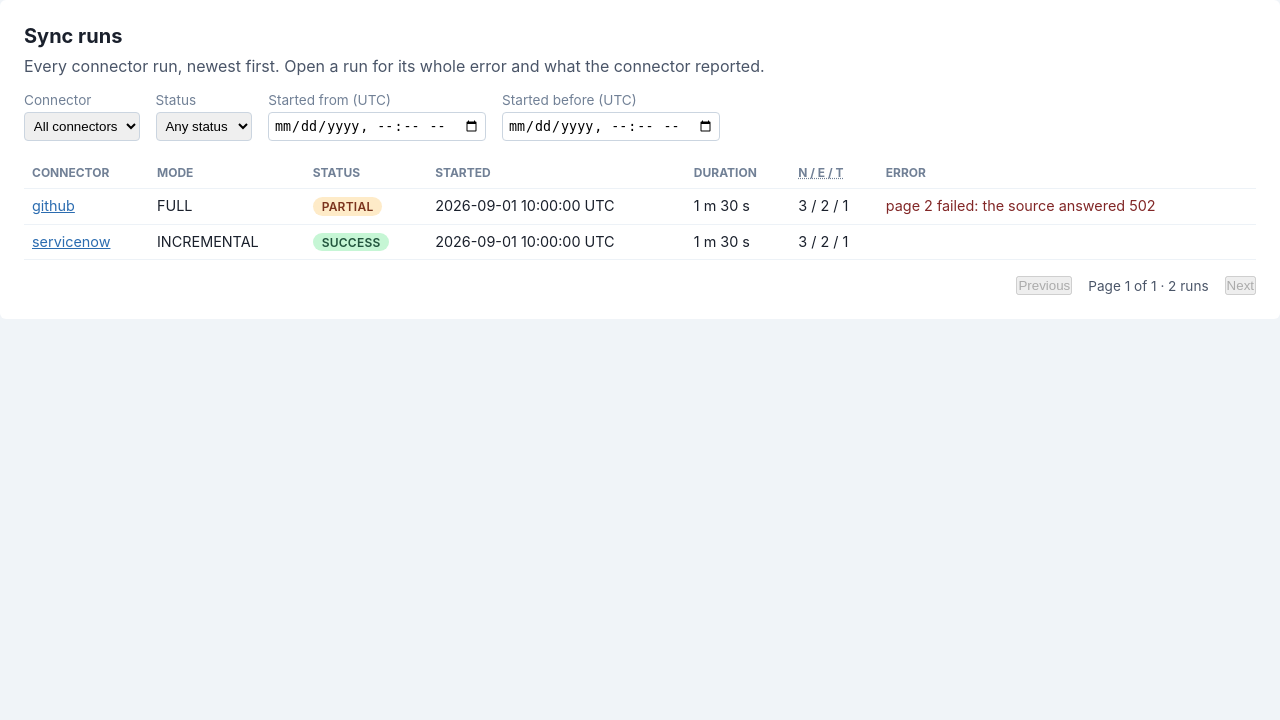
Scenario: SyncRunsView › tells the drawer when the instance is read-only
Click the row with test id "run-run-2" at (640, 206), box [24, 188, 1256, 224]
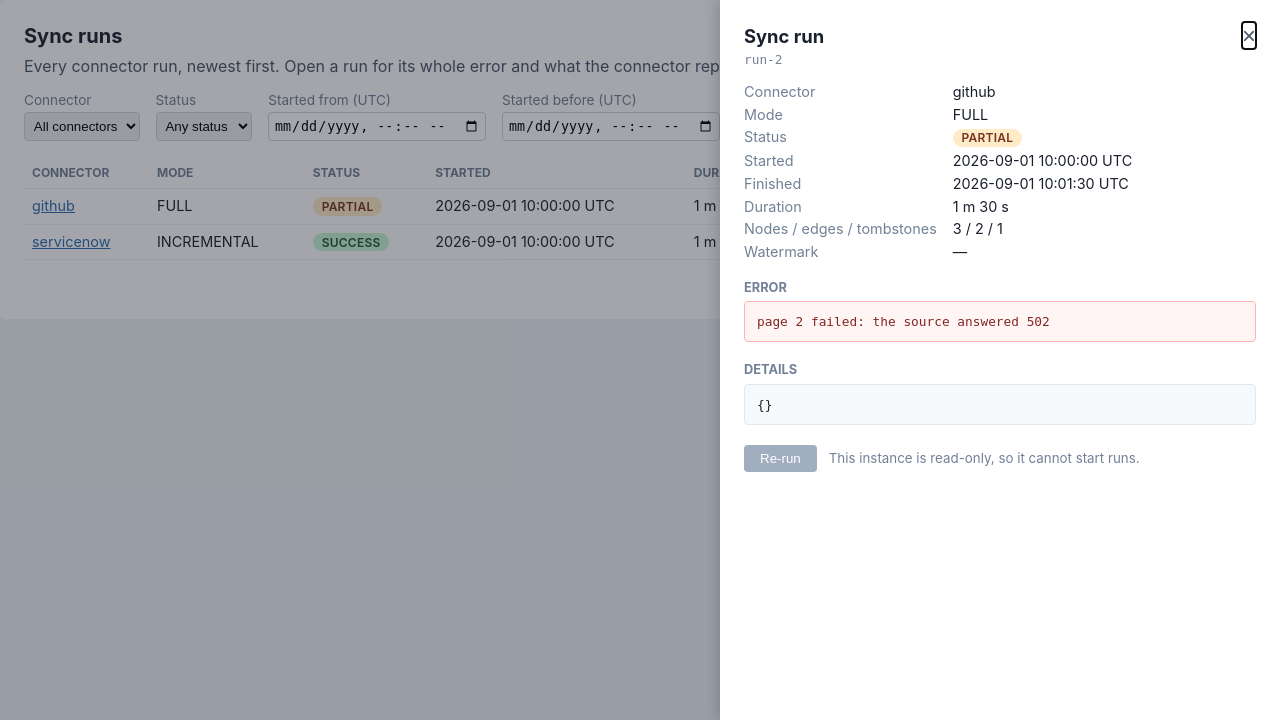
Now the button with test id "rerun" is disabled, box [744, 444, 817, 472]
